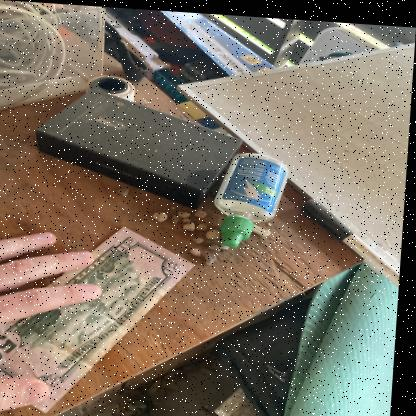fifty-back: (0, 228, 199, 415)
